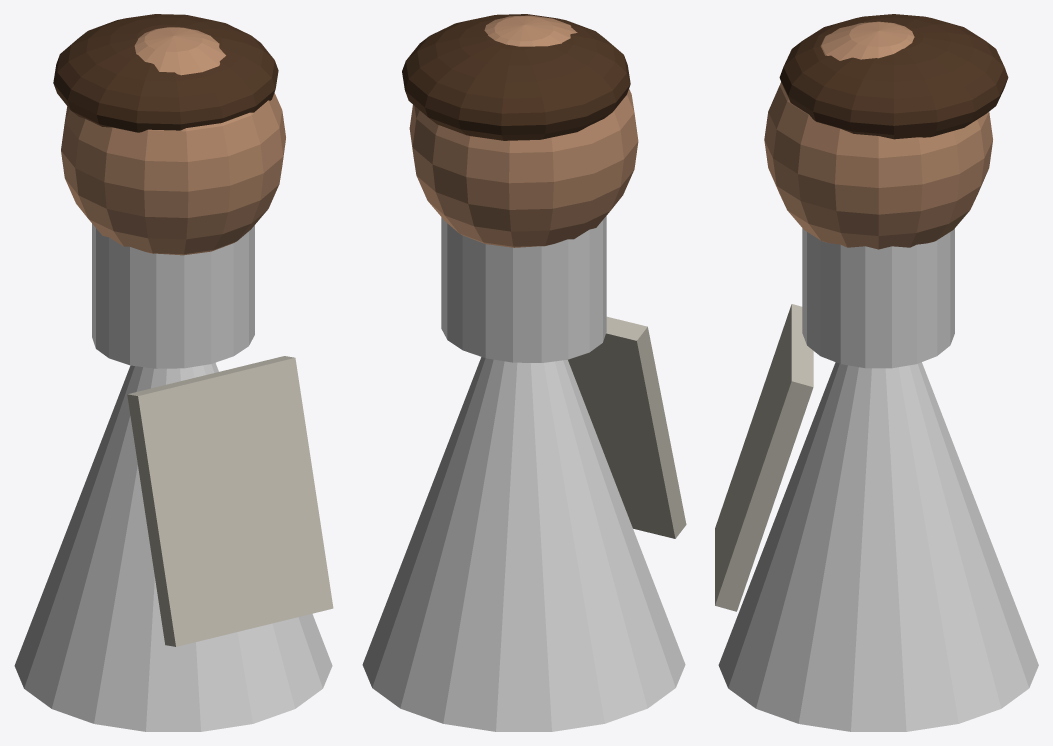
File: villager.db6b742b.glb
The picture shows the model from 3 angles, left to right: view 1: azimuth 30°, elevation 25°; view 2: azimuth 150°, elevation 25°; view 3: azimuth 270°, elevation 25°; orthographic projection.
Parts seen in each view (by area): view 1: body, accent; view 2: accent, body; view 3: accent, body.
Part boxes in pixels (x1,y1,x2,y2): body: [53, 14, 333, 646]; accent: [14, 224, 332, 731]; accent: [362, 216, 685, 731]; body: [402, 14, 686, 538]; accent: [718, 228, 1038, 731]; body: [715, 14, 1008, 611].
Size of the model in its own units: 0.4136 by 0.9175 by 0.4246.
